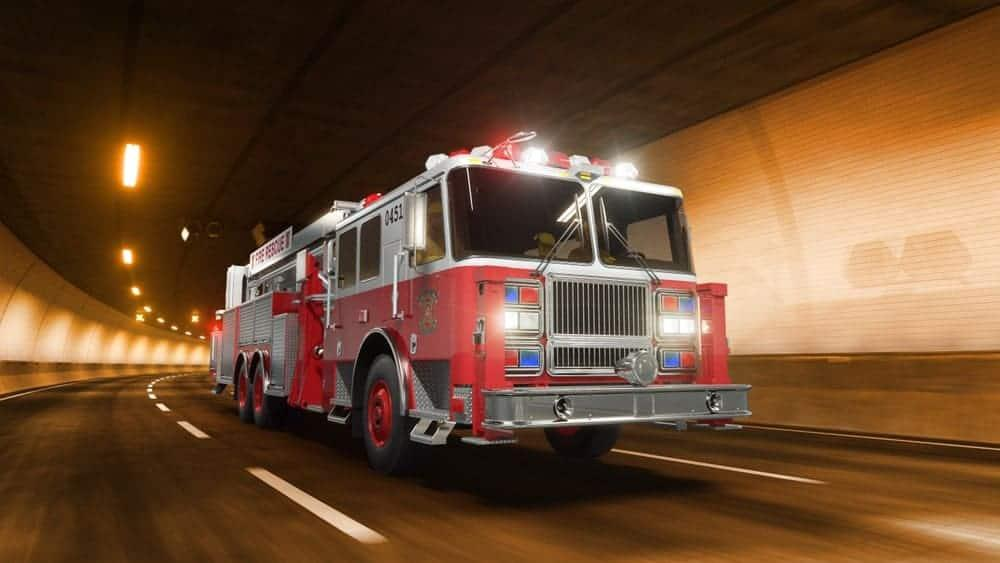firetruck_on: (209, 133, 750, 476)
